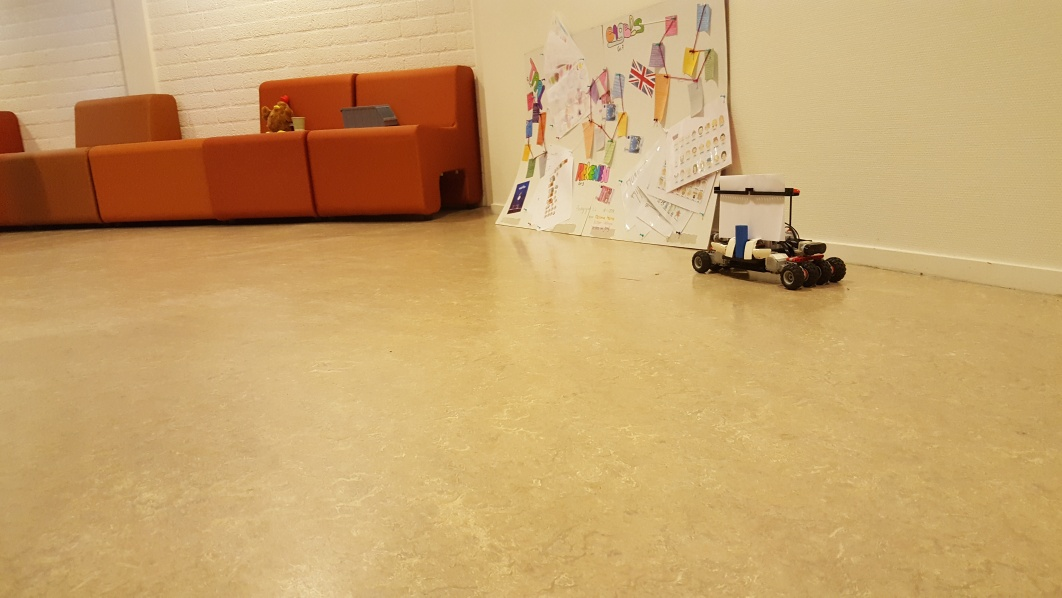beam: (731, 221, 749, 263)
chicken: (260, 91, 293, 132)
cup: (290, 115, 307, 129)
tray: (344, 103, 397, 129)
